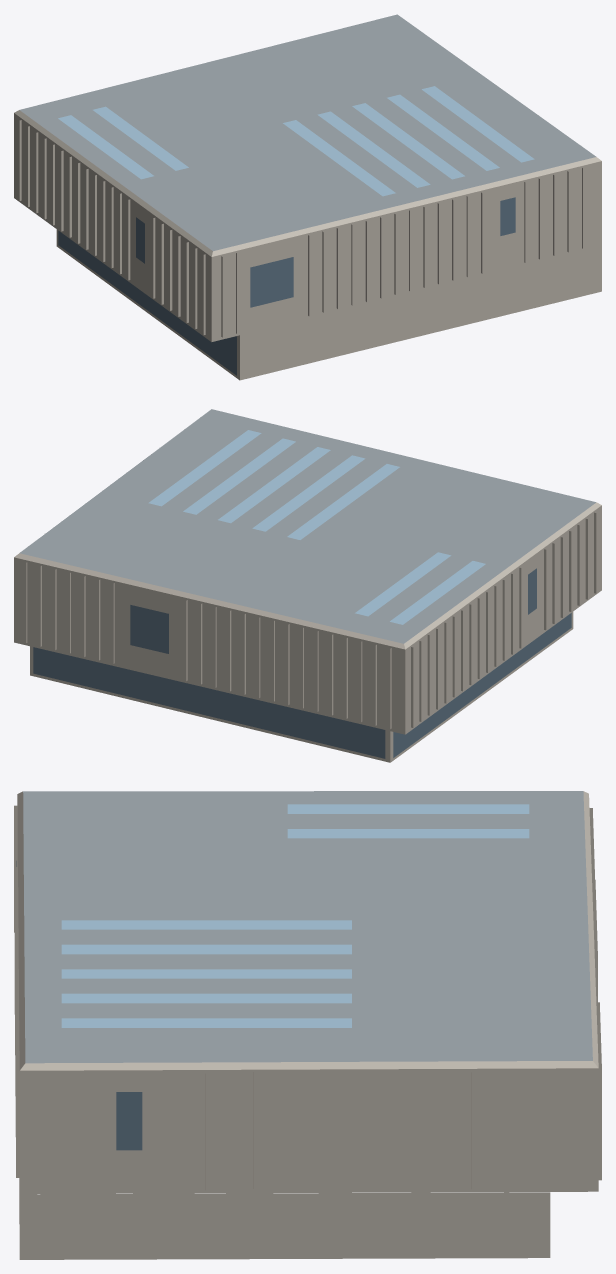
Rendered from den-clyfford-still-museum.glb.
The picture shows the model from 3 angles, top to bottom: view 1: azimuth 30°, elevation 25°; view 2: azimuth 150°, elevation 25°; view 3: azimuth 270°, elevation 25°; orthographic projection. The views are drawn at different scales.
Parts seen in each view (by area): view 1: Clyfford Still Museum; view 2: Clyfford Still Museum; view 3: Clyfford Still Museum.
Boxes of the visible parts, x1,y1,x2,y2 form: Clyfford Still Museum: [14, 14, 601, 380]; Clyfford Still Museum: [14, 409, 601, 762]; Clyfford Still Museum: [14, 791, 601, 1259].
Size of the model in its own units: 41.09 by 13.34 by 36.47.
